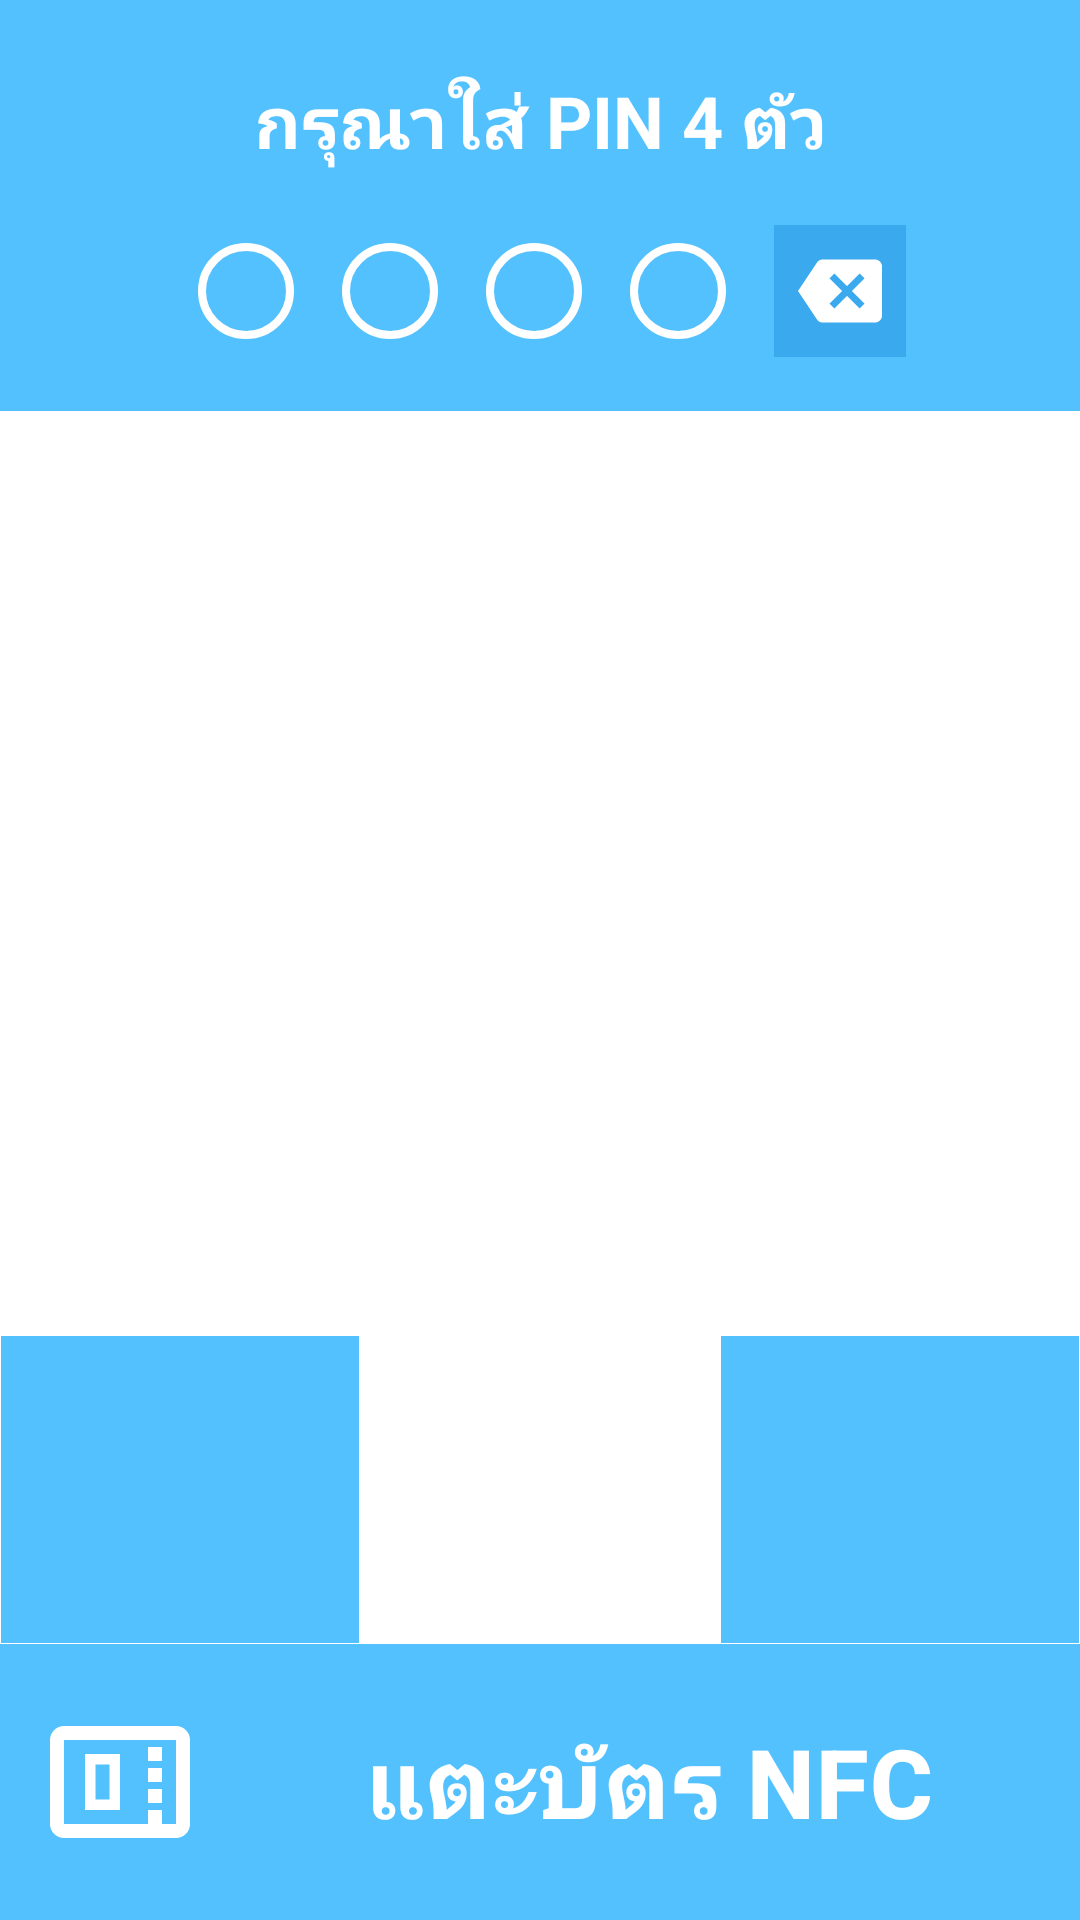

Screen size 1080*1920. Icon name, then its center in pixels as (x=x, y=y):
Backspace: (x=840, y=291)
